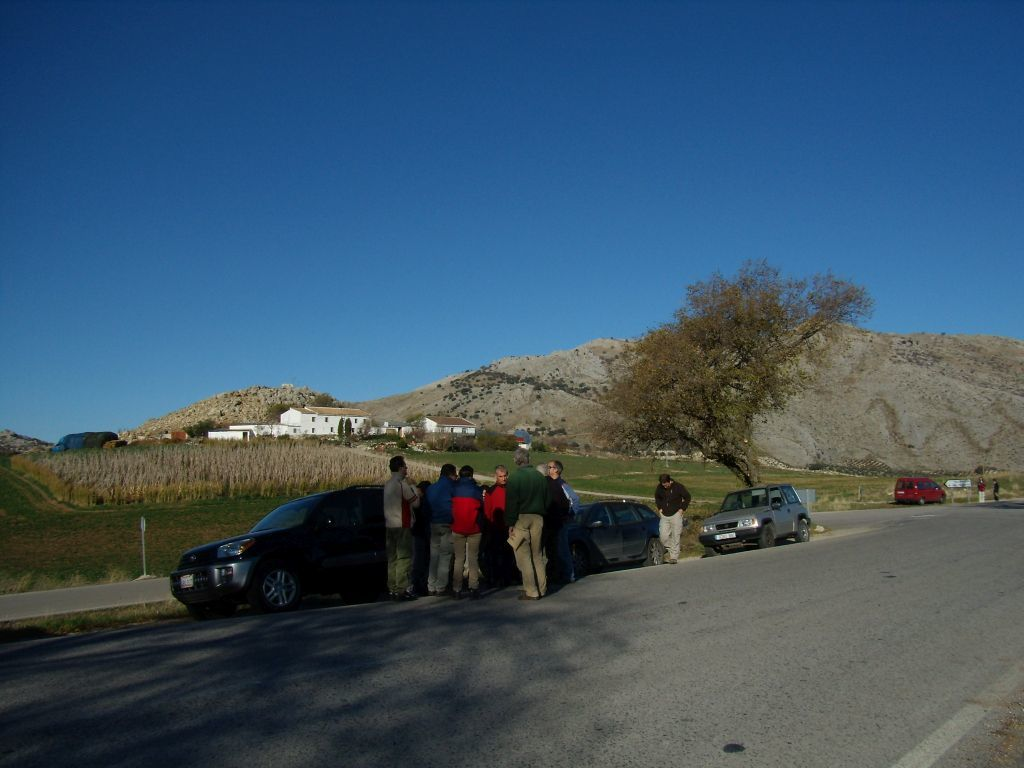Car: (170, 483, 453, 624), (696, 483, 810, 559), (567, 503, 661, 578), (892, 469, 945, 504)
